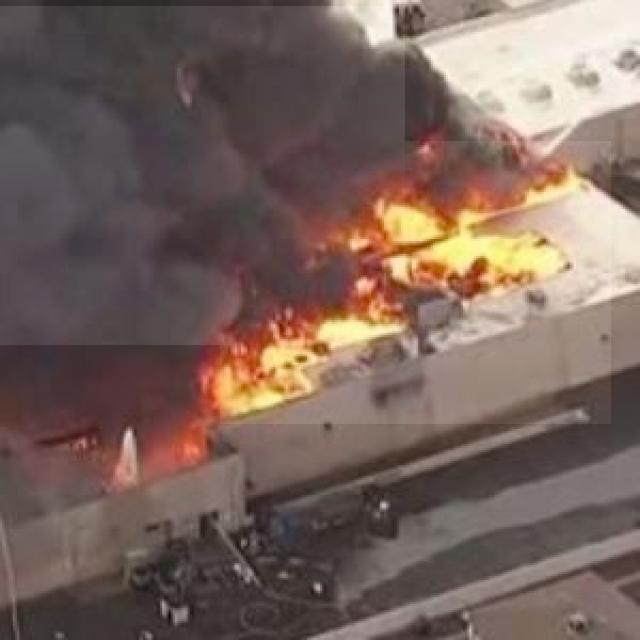Fire: (220, 141, 611, 424)
Smoke: (0, 6, 405, 345)
